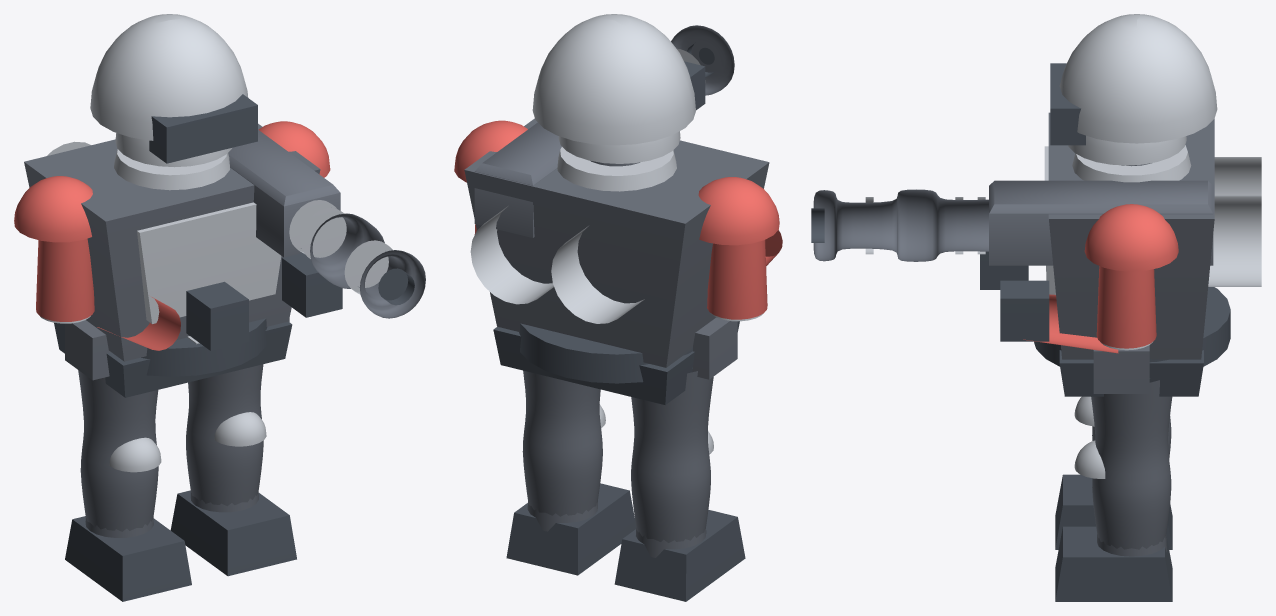
File: flakt.glb
3 renders of one model, left to right at view 1: azimuth 30°, elevation 25°; view 2: azimuth 150°, elevation 25°; view 3: azimuth 270°, elevation 25°, orthographic. The views are drawn at different scales.
Visible parts, largest first — view 1: Hull; view 2: Hull; view 3: Hull.
Part boxes in pixels (bbox=[...]): Hull: bbox=[14, 14, 425, 601]; Hull: bbox=[454, 14, 782, 601]; Hull: bbox=[811, 14, 1261, 601].
Size of the model in its own units: 0.6643 by 1.11 by 0.8396.
